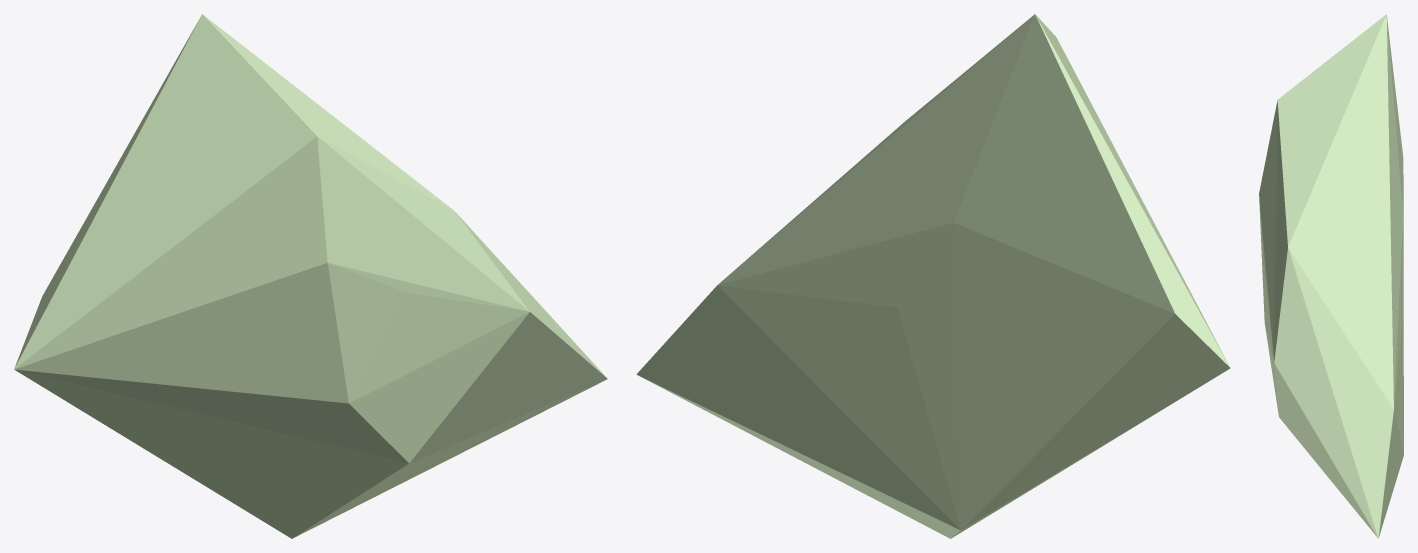
File: iiwa_robot_base_coll_6.obj
3 views of the same model, side by side, from view 1: azimuth 30°, elevation 25°; view 2: azimuth 150°, elevation 25°; view 3: azimuth 270°, elevation 25° (orthographic). The views are drawn at different scales.
Visible parts, largest first — view 1: node; view 2: node; view 3: node.
Boxes of the visible parts, left/top/right/bottom form: node: left=14, top=14, right=607, bottom=538; node: left=636, top=14, right=1230, bottom=538; node: left=1259, top=14, right=1403, bottom=538.
Bounding box in the file's own units: 0.0514 × 0.0452 × 0.0136.
